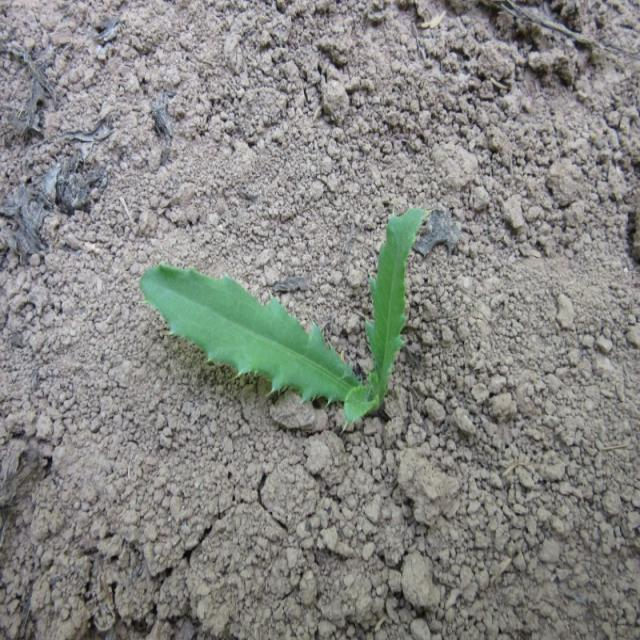field_thistle: (62, 213, 436, 445)
